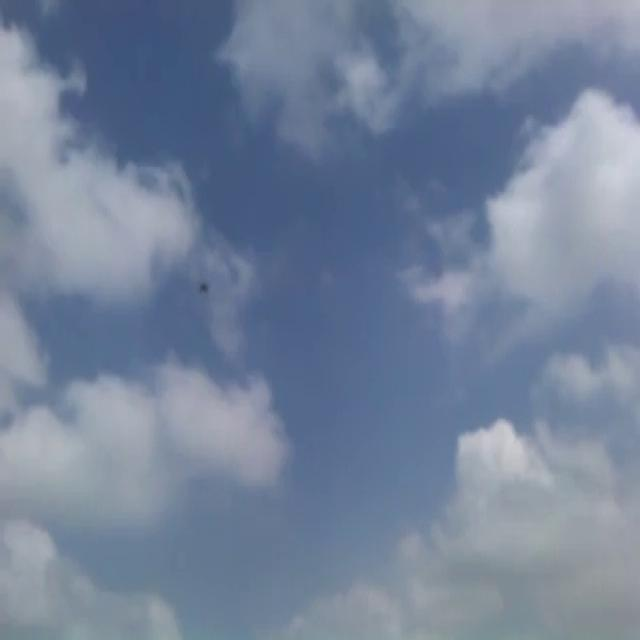drone: (197, 279, 210, 295)
